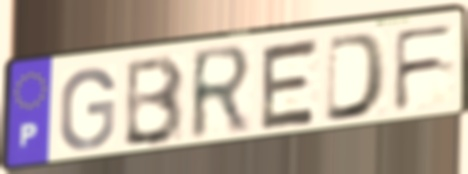B: (121, 52, 187, 150)
D: (322, 29, 391, 125)
E: (256, 35, 322, 134)
F: (391, 20, 458, 115)
G: (56, 64, 118, 153)
R: (188, 41, 257, 146)
